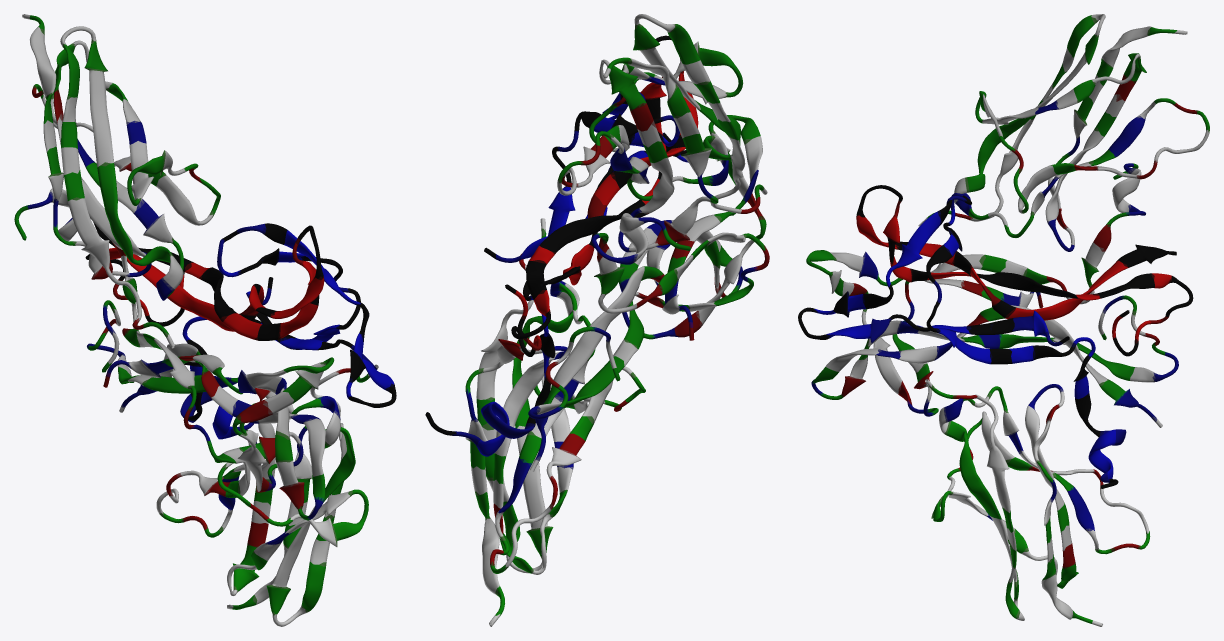
The model's file is ribbon-test1-reduced-tri.obj.
3 views of the same model, side by side, from view 1: azimuth 30°, elevation 25°; view 2: azimuth 150°, elevation 25°; view 3: azimuth 270°, elevation 25° (orthographic). The views are drawn at different scales.
Size of the model in its own units: 0.7843 by 1.75 by 1.2.
